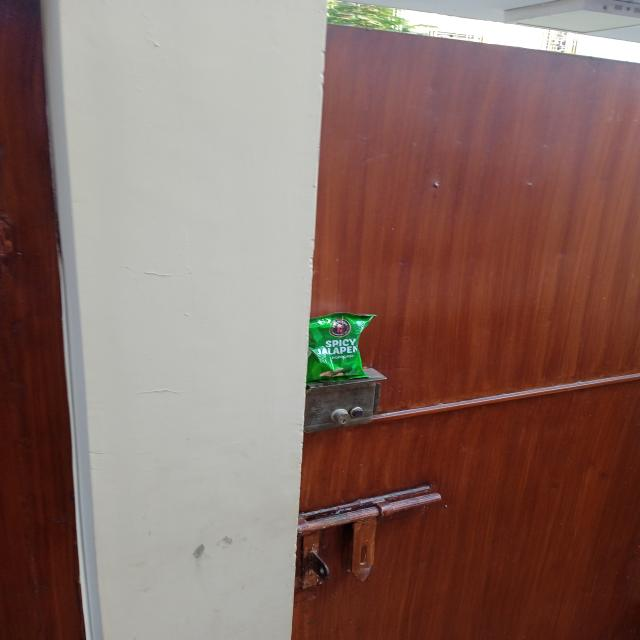Plastic: (302, 308, 382, 384)
